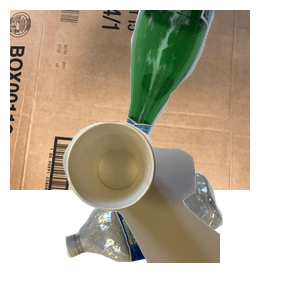cardboard: (10, 10, 250, 190)
glass: (109, 10, 300, 167)
plastic: (63, 170, 278, 300)
trash: (60, 120, 300, 300)
